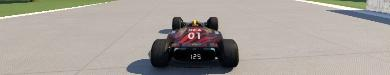Car: (149, 16, 239, 68)
curve: (0, 0, 389, 74)
obstacles-Borders: (364, 0, 389, 22)
